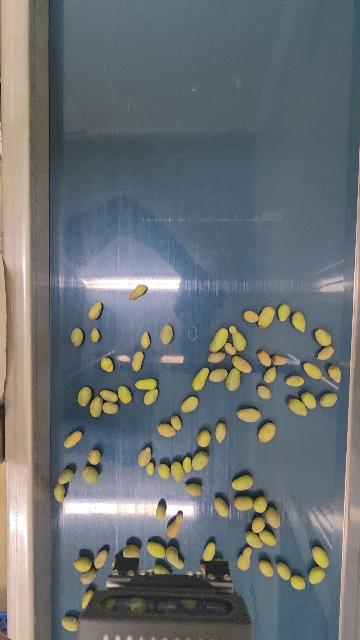Baby Potato: (209, 326, 229, 353), (165, 545, 185, 570), (225, 367, 244, 393), (165, 512, 183, 539), (229, 326, 247, 353), (287, 396, 309, 418), (311, 545, 331, 569), (257, 305, 276, 330), (257, 421, 277, 444), (237, 406, 262, 424), (191, 366, 209, 391), (237, 546, 254, 572), (231, 354, 253, 374), (231, 473, 254, 491), (265, 505, 282, 529), (303, 361, 323, 380), (314, 327, 333, 347), (213, 496, 230, 518), (275, 559, 292, 581), (233, 494, 255, 511), (291, 310, 307, 333), (244, 530, 263, 549), (300, 390, 318, 410), (64, 429, 82, 449), (308, 565, 326, 585), (146, 540, 166, 558), (77, 386, 93, 408), (259, 528, 277, 547), (257, 558, 274, 578), (81, 465, 98, 485), (202, 540, 217, 562), (170, 460, 185, 482), (181, 395, 199, 413), (61, 615, 80, 632), (319, 391, 338, 408), (327, 364, 343, 384), (117, 385, 133, 405), (192, 450, 208, 470), (137, 446, 152, 467), (94, 549, 109, 570), (208, 367, 229, 382), (214, 421, 228, 443), (129, 283, 147, 300), (73, 556, 92, 572), (253, 494, 268, 514), (135, 378, 158, 391), (89, 396, 103, 417), (285, 374, 306, 388), (160, 324, 174, 345), (277, 302, 291, 323), (289, 573, 306, 590), (317, 345, 335, 361), (79, 568, 97, 584), (131, 350, 144, 372), (197, 429, 212, 448), (99, 388, 118, 403), (70, 327, 84, 347), (88, 301, 102, 321), (81, 589, 94, 610), (256, 349, 272, 366), (256, 384, 273, 400), (184, 482, 202, 497), (123, 543, 141, 558), (207, 351, 227, 364), (58, 468, 73, 485), (263, 366, 278, 383), (143, 388, 158, 405), (251, 515, 265, 533), (158, 423, 176, 437), (53, 483, 66, 502), (100, 356, 114, 373), (157, 462, 170, 480), (243, 309, 259, 323), (88, 448, 101, 465), (102, 401, 119, 414), (272, 353, 289, 366), (140, 331, 151, 349), (170, 414, 182, 430), (89, 327, 100, 343), (153, 564, 169, 575), (183, 455, 192, 474), (156, 503, 166, 520), (223, 342, 235, 355), (145, 462, 154, 476)
